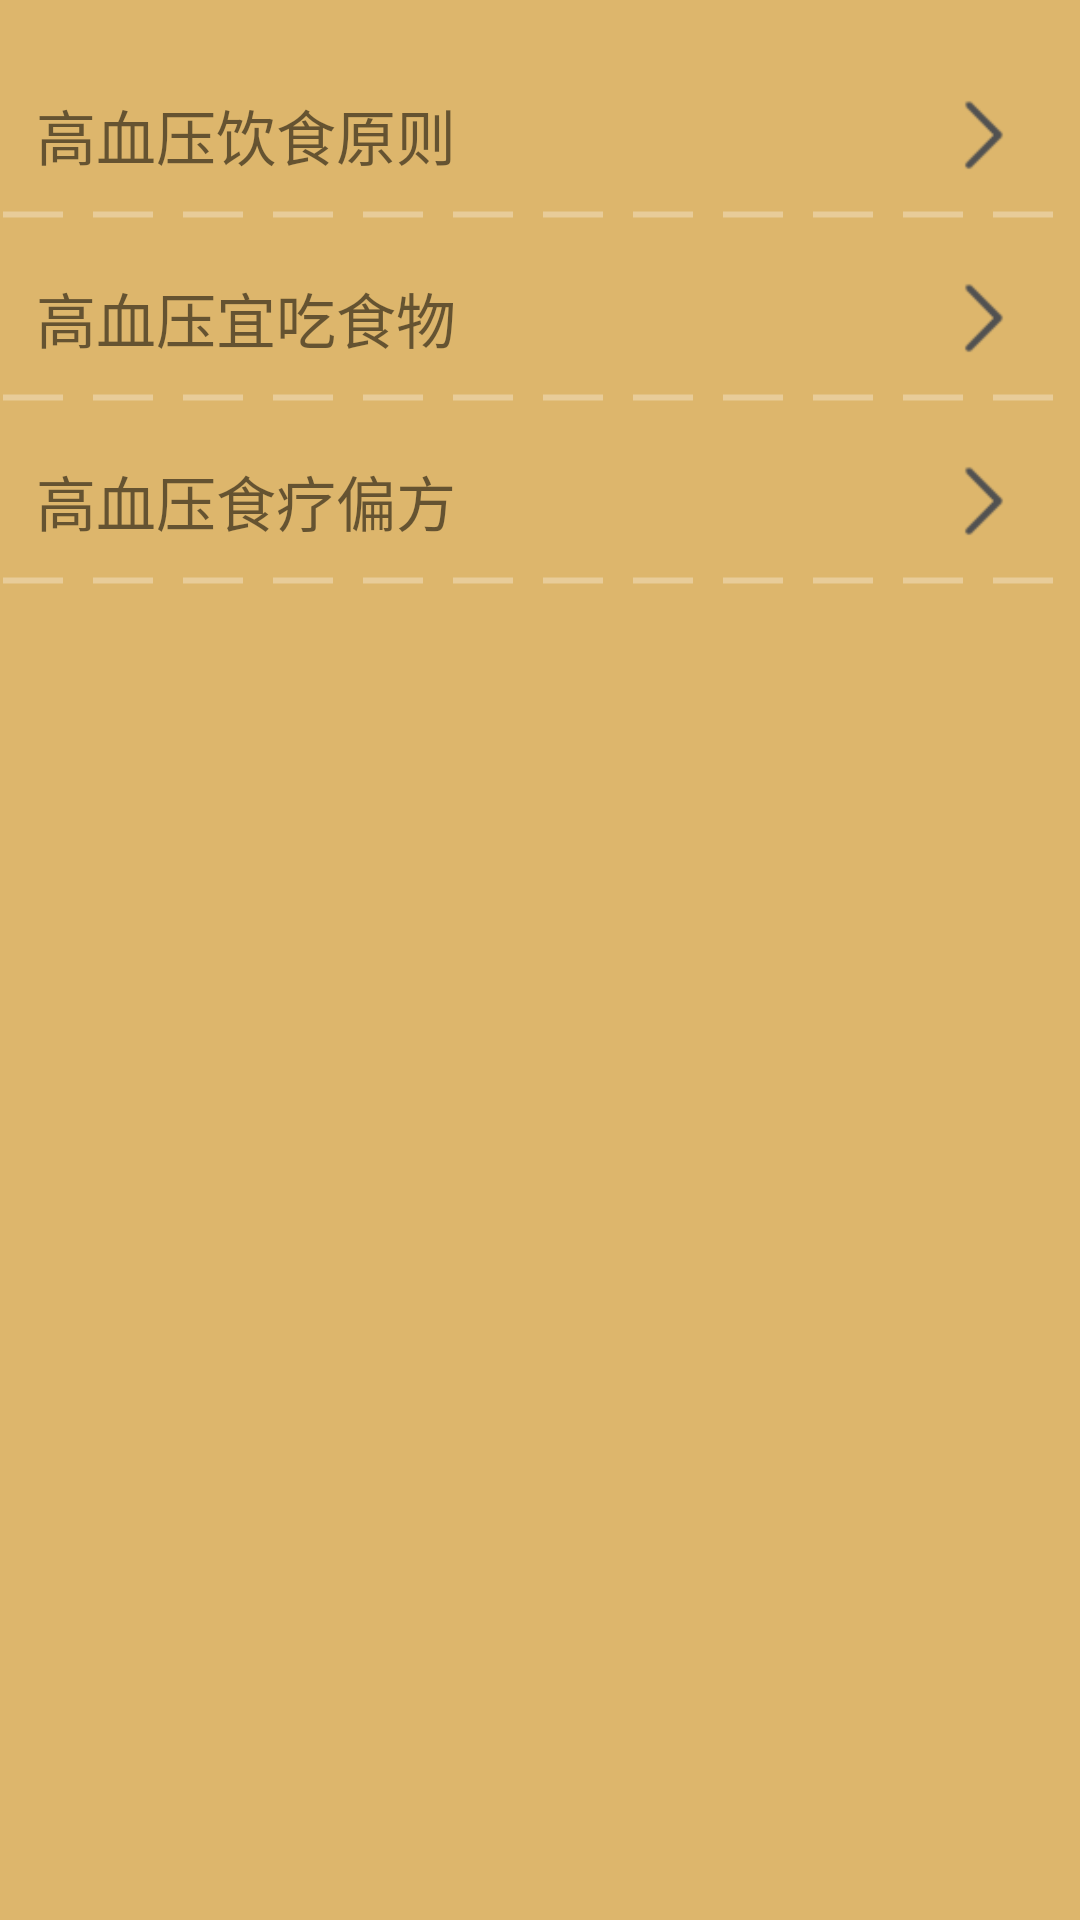

Screen size 1080 x 1920. Icon name, then its box in pixels as box(x1, y1, x2, y2):
arrow right: box(965, 101, 1003, 169), box(965, 284, 1003, 352), box(965, 467, 1003, 535)
